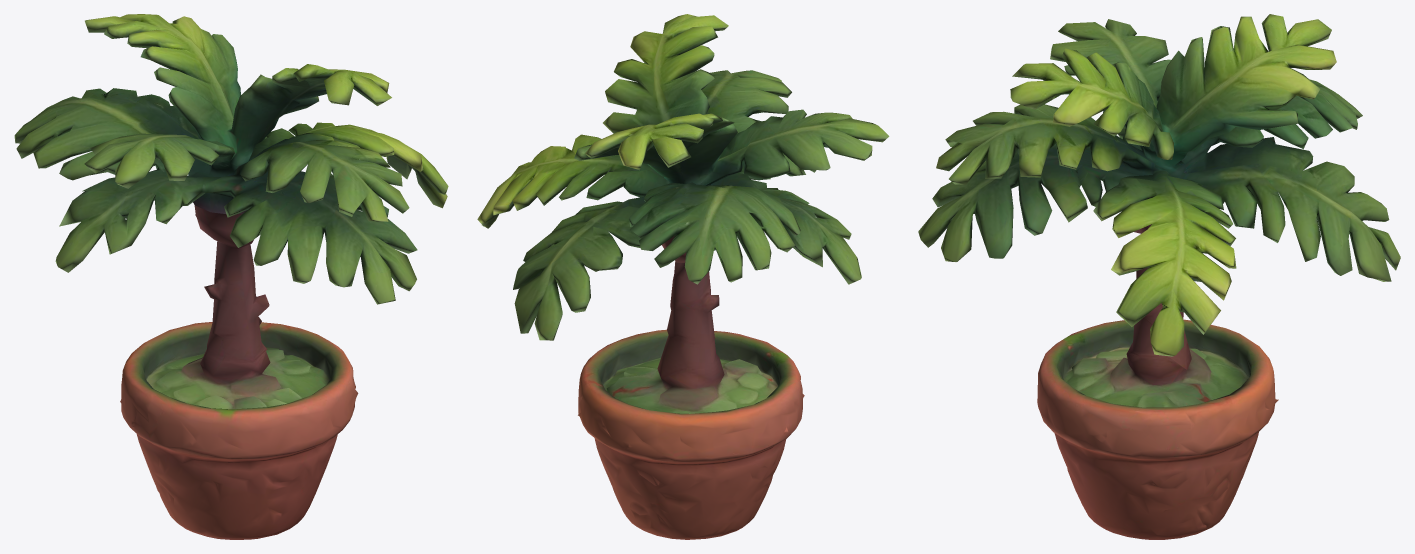
The model's file is lib-palm.glb.
3 renders of one model, left to right at view 1: azimuth 30°, elevation 25°; view 2: azimuth 150°, elevation 25°; view 3: azimuth 270°, elevation 25°, orthographic. The views are drawn at different scales.
Parts seen in each view (by area): view 1: tripo_node_fb18405c-0601-4584-83a2-f451f6dcaf29; view 2: tripo_node_fb18405c-0601-4584-83a2-f451f6dcaf29; view 3: tripo_node_fb18405c-0601-4584-83a2-f451f6dcaf29.
Part boxes in pixels (x1,y1,x2,y2): tripo_node_fb18405c-0601-4584-83a2-f451f6dcaf29: (14, 14, 448, 539); tripo_node_fb18405c-0601-4584-83a2-f451f6dcaf29: (477, 14, 889, 539); tripo_node_fb18405c-0601-4584-83a2-f451f6dcaf29: (918, 14, 1400, 539).
Size of the model in its own units: 0.8607 by 0.9996 by 0.9135.
Materials: 1 (1 with a texture image).
